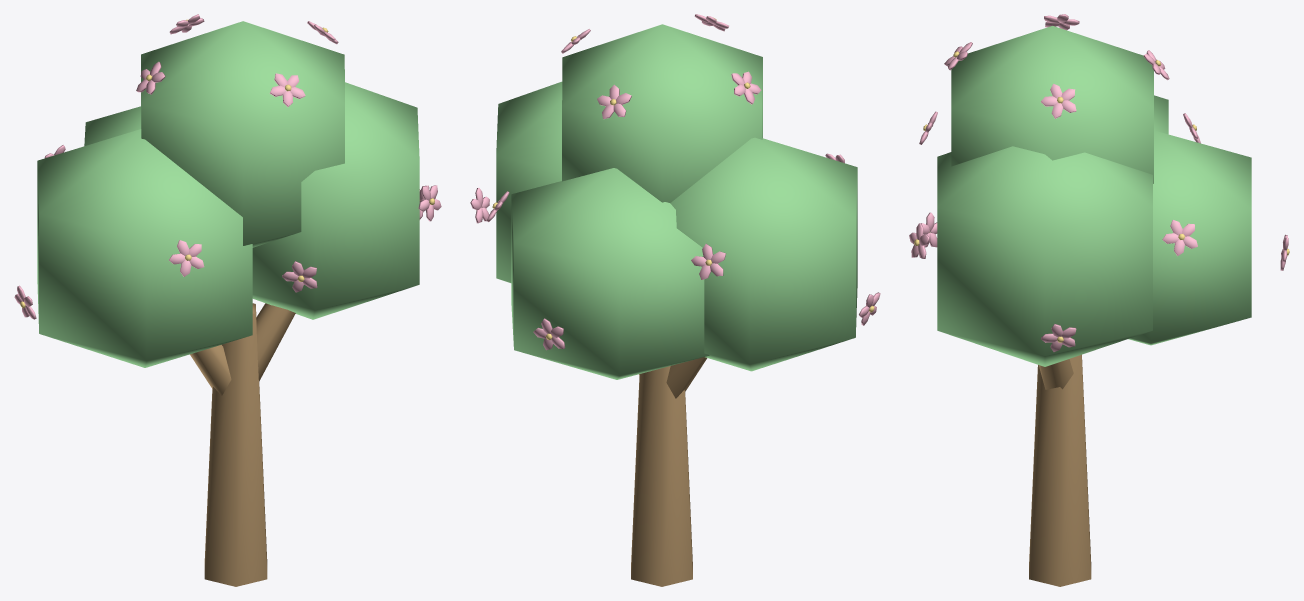
The model's file is tree_fruit_spring_low.glb.
The picture shows the model from 3 angles, left to right: view 1: azimuth 30°, elevation 25°; view 2: azimuth 150°, elevation 25°; view 3: azimuth 270°, elevation 25°; orthographic projection.
Size of the model in its own units: 2.46 by 3.19 by 2.01.
